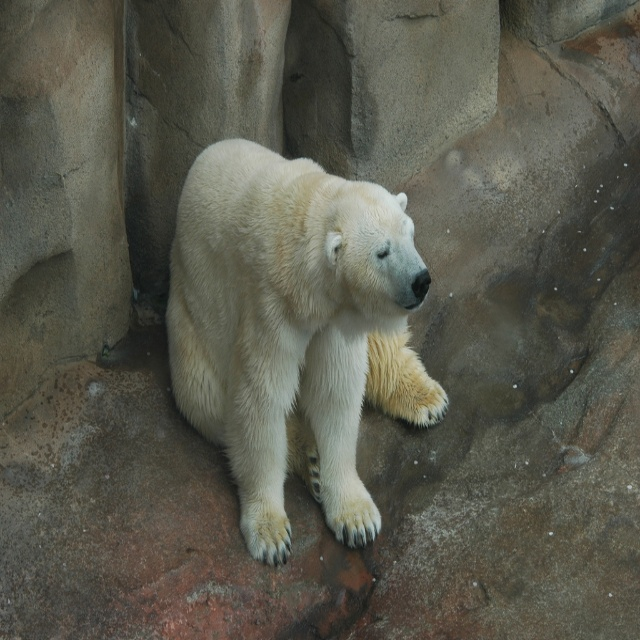Polar bear: (167, 135, 451, 570)
